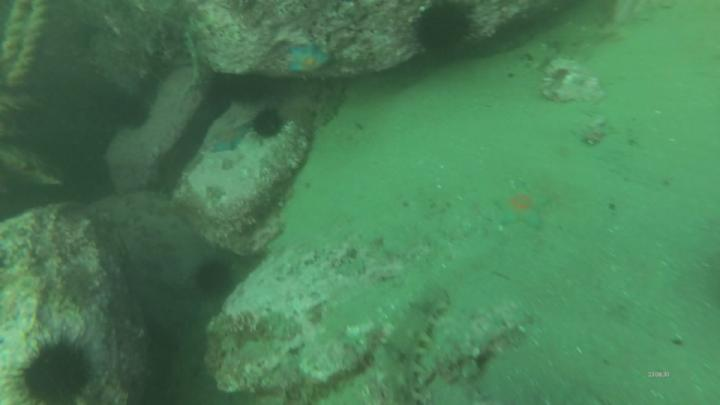echinus: (22, 333, 93, 405), (411, 2, 482, 61), (189, 255, 240, 297), (250, 108, 289, 141), (118, 92, 150, 130)
holothurian: (378, 290, 454, 405)
starfish: (494, 182, 553, 232), (289, 45, 333, 78), (212, 125, 250, 156)
